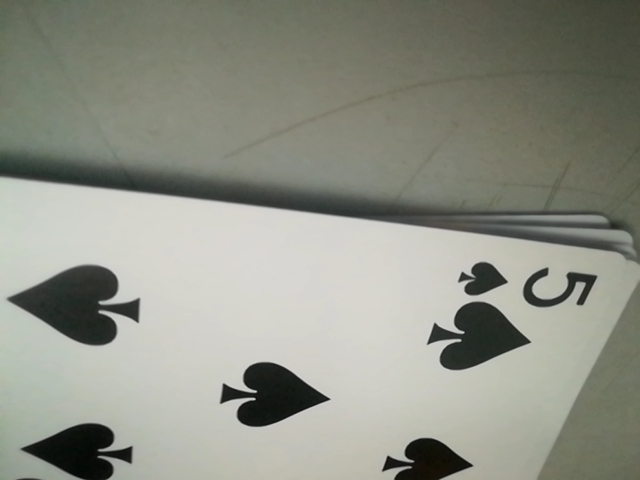ht 5: (453, 254, 606, 307)
